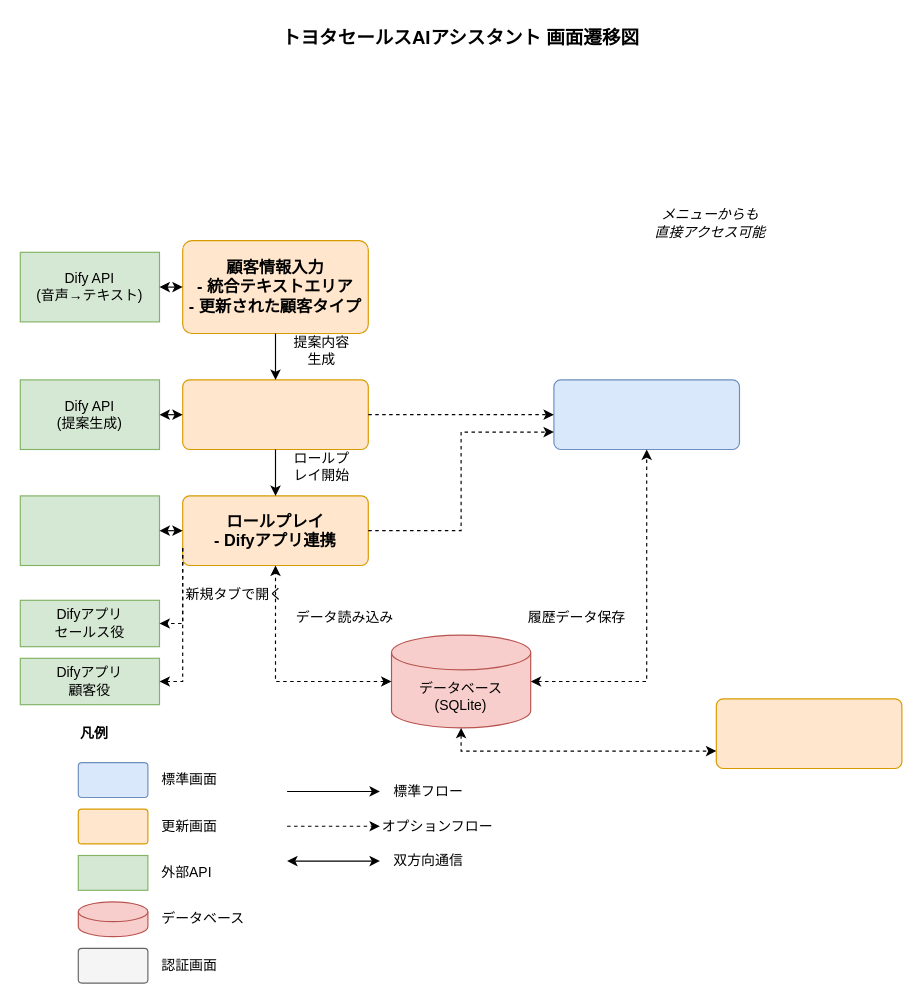
Image size: 922x1003. Some labels were removed from this diagram. Here are the shapes that lost their labels. From the top down, the centre of each, then its label:
point (275, 414): 提案内容 QA・質問
point (646, 414): 履歴
point (89, 530): Dify API (トーク生成)
point (808, 733): 設定 - ロールプレイURL設定
